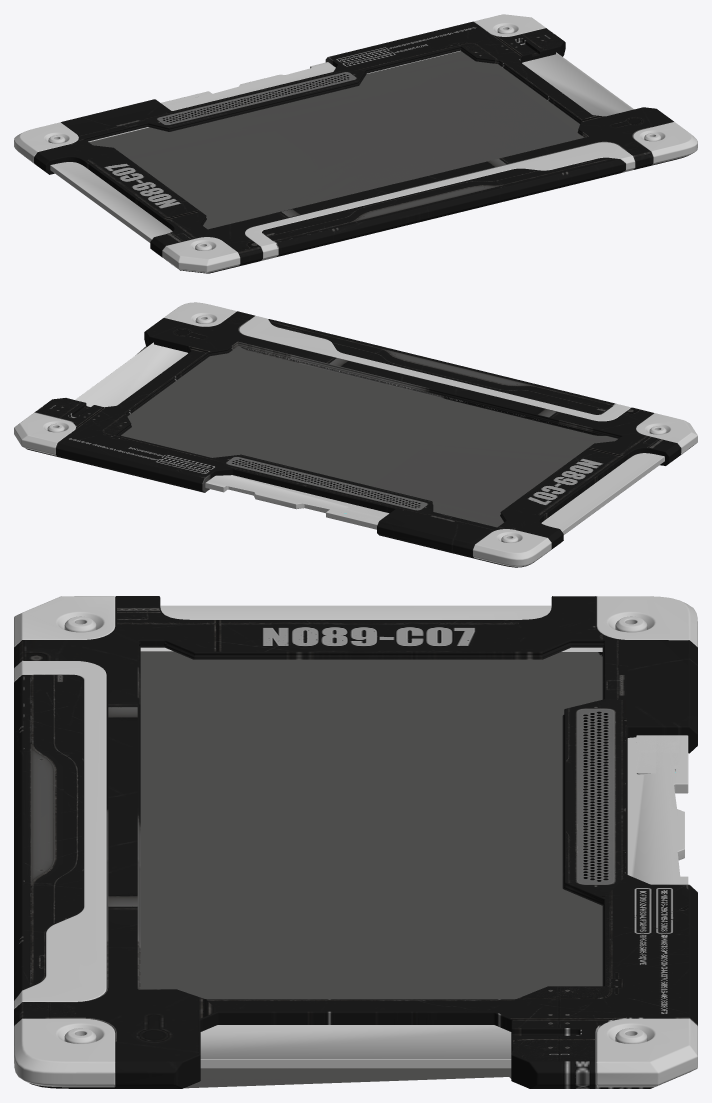
Rendered from tablet 1.fbx.
The picture shows the model from 3 angles, top to bottom: view 1: azimuth 30°, elevation 25°; view 2: azimuth 150°, elevation 25°; view 3: azimuth 270°, elevation 25°; orthographic projection. The views are drawn at different scales.
Parts seen in each view (by area): view 1: Cube.006; view 2: Cube.006; view 3: Cube.006.
Part boxes in pixels (x1,y1,x2,y2): Cube.006: (14, 14, 697, 273); Cube.006: (14, 302, 697, 567); Cube.006: (14, 596, 697, 1088).
Bounding box in the file's own units: 360 × 10.11 × 220.
